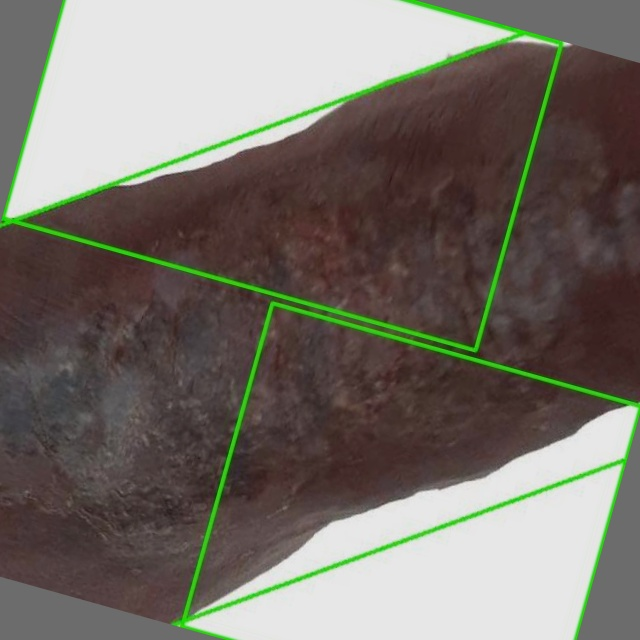Contact Dermatitis: (0, 76, 639, 582), (2, 0, 562, 349), (181, 303, 639, 639)
